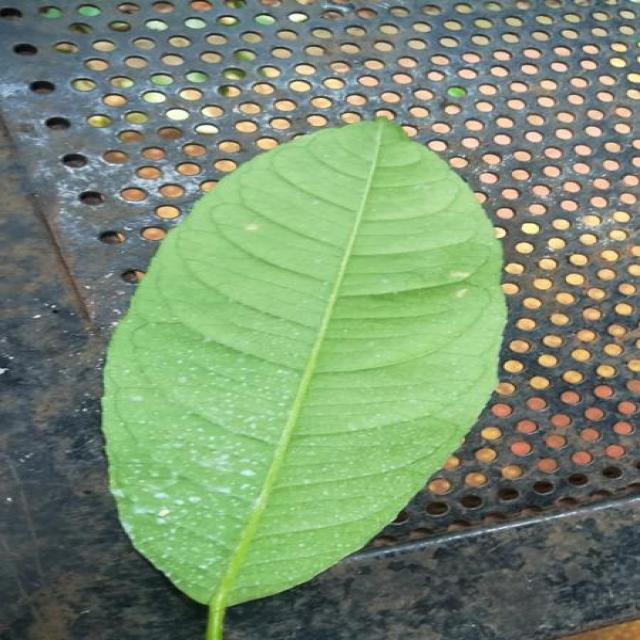badipala: (103, 119, 505, 639)
defectedbadipala: (103, 306, 298, 603)
